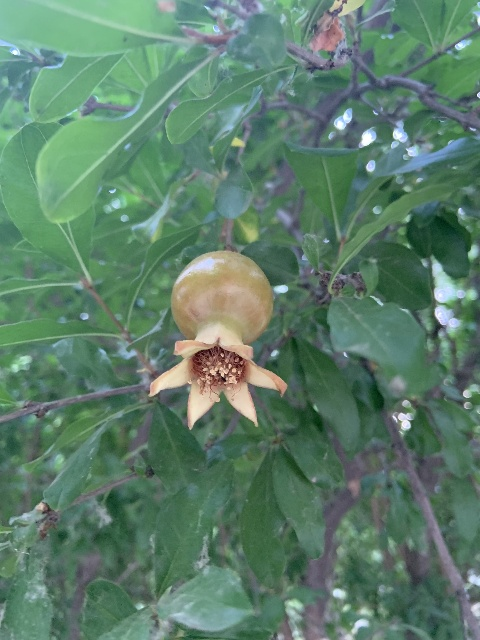early-fruit: (148, 250, 287, 430)
